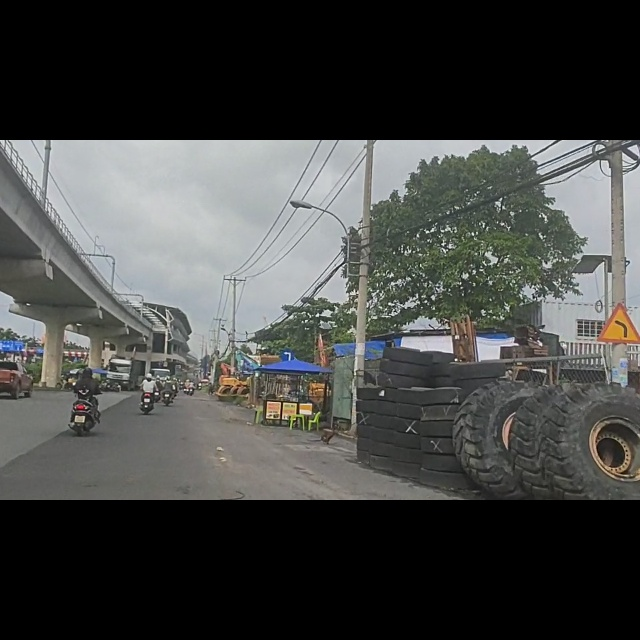bien_chi_dan: (597, 289, 640, 360), (280, 369, 294, 395)
